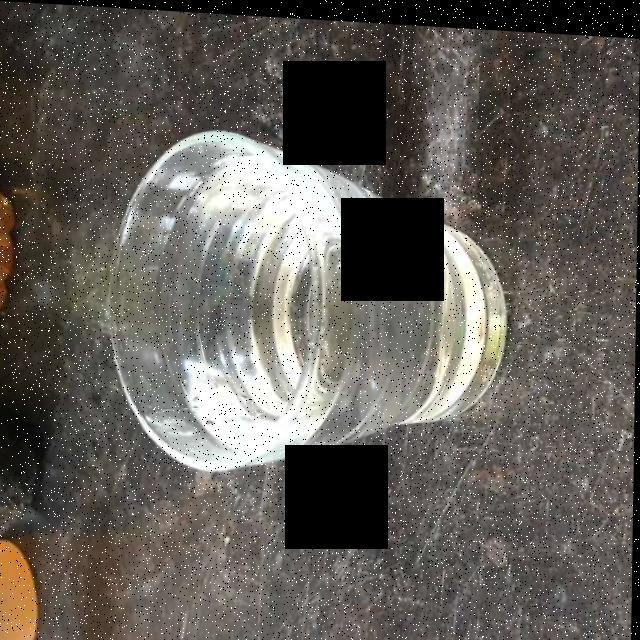water: (163, 155, 486, 450), (153, 159, 472, 438)
